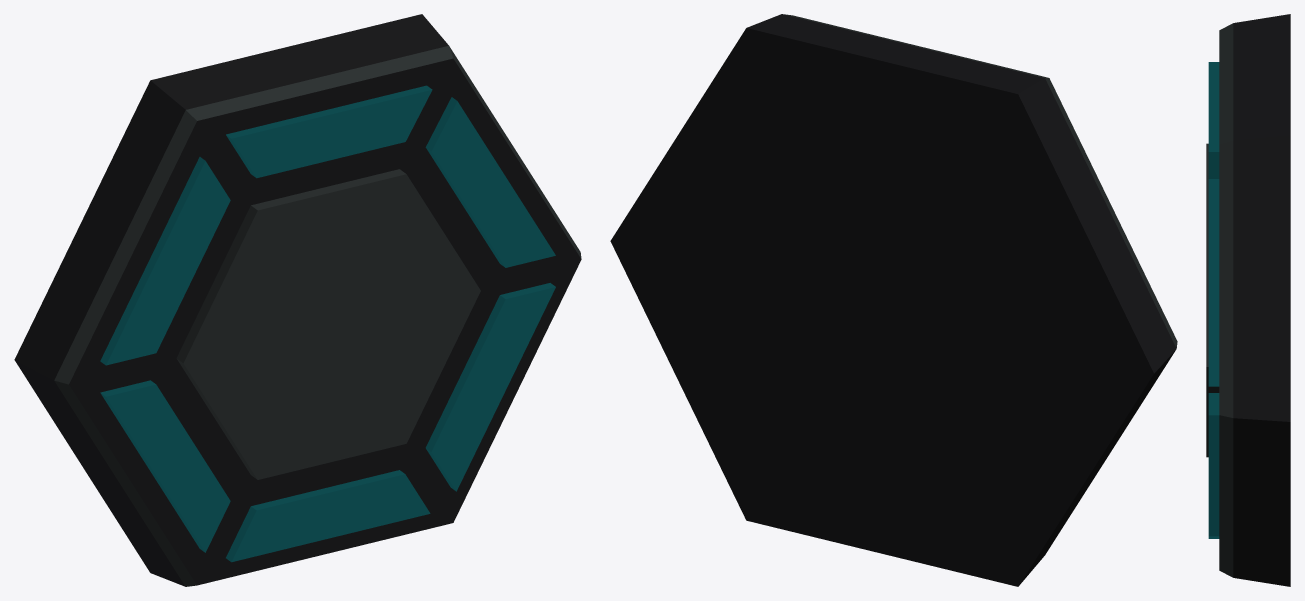
File: mana.glb
3 views of the same model, side by side, from view 1: azimuth 30°, elevation 25°; view 2: azimuth 150°, elevation 25°; view 3: azimuth 270°, elevation 25° (orthographic). The views are drawn at different scales.
Visible parts, largest first — view 1: mana; view 2: mana; view 3: mana.
Part boxes in pixels (bbox=[...]): mana: bbox=[14, 14, 581, 586]; mana: bbox=[610, 14, 1177, 586]; mana: bbox=[1206, 14, 1290, 586].
Size of what is drawn, in the model's own units: 2.35 by 2.03 by 0.3432.
Materials: 2 (2 with a texture image).
